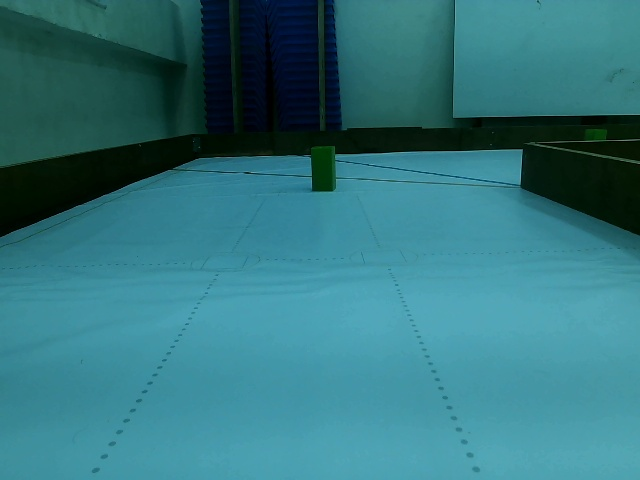green: (308, 145, 339, 195)
